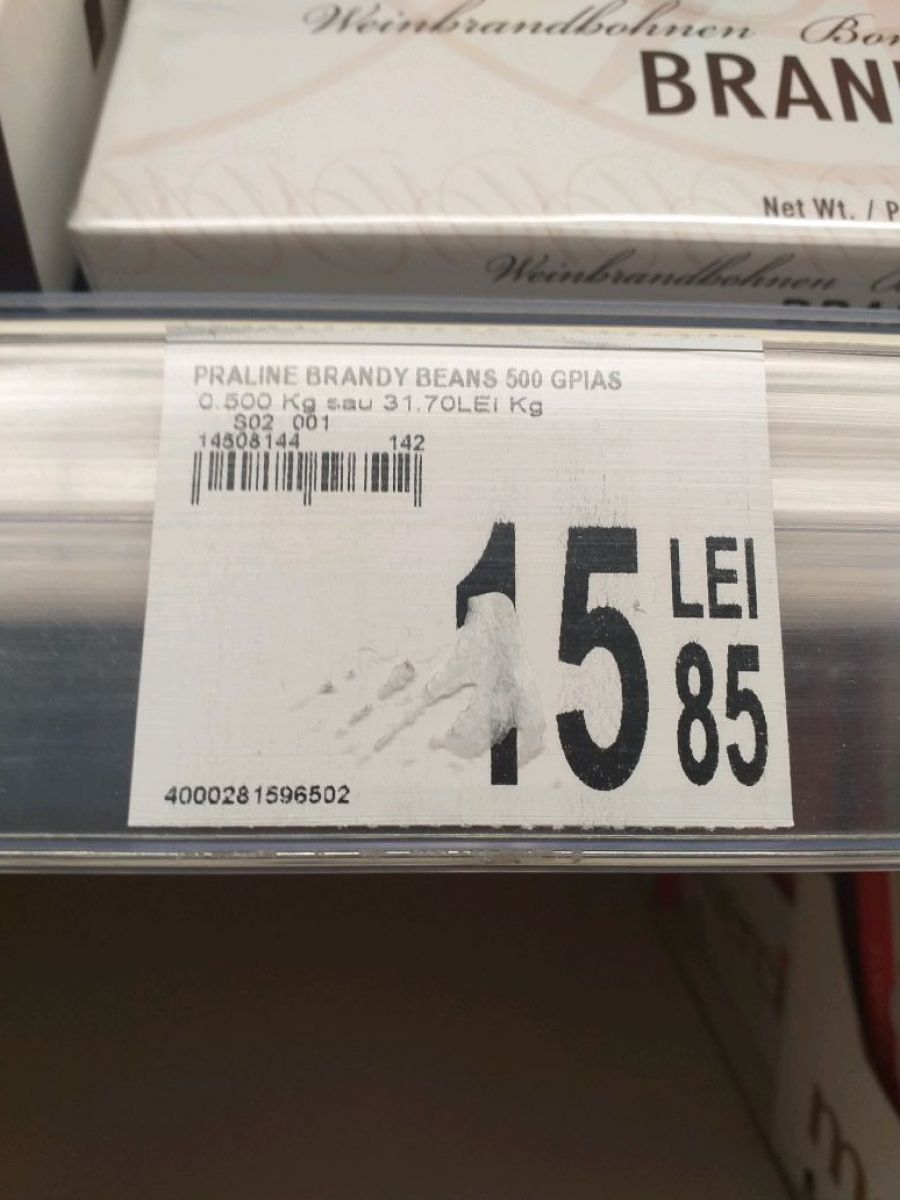price_bani: (668, 633, 776, 802)
price_lei: (437, 516, 656, 808)
price_tag: (119, 286, 812, 876)
product_id: (153, 771, 360, 810)
product_name: (187, 360, 634, 392)
